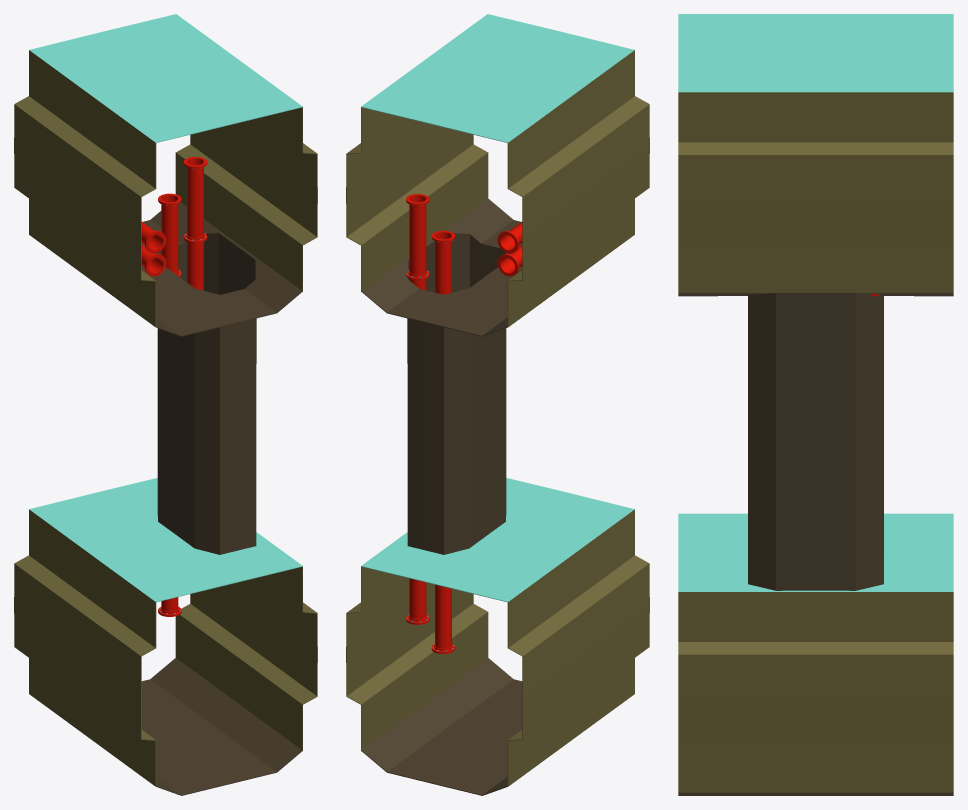
The model's file is Straight_.001.fbx.
3 renders of one model, left to right at view 1: azimuth 30°, elevation 25°; view 2: azimuth 150°, elevation 25°; view 3: azimuth 270°, elevation 25°, orthographic. The views are drawn at different scales.
Parts seen in each view (by area): view 1: Straight_.001, Pipe_200_Straight_2m.019, Pipe_200_Straight_2m.004, Pipe_200_Straight_1m.010; view 2: Straight_.001, Pipe_200_Straight_2m.019, Pipe_200_Straight_2m.020, Pipe_200_Straight_2m.004, Pipe_200_Straight_2m.021, Pipe_200_Straight_1m.010; view 3: Straight_.001.
Boxes of the visible parts, x1=… form: Straight_.001: x1=14, y1=14, x2=317, y2=795; Pipe_200_Straight_2m.019: x1=183, y1=156, x2=207, y2=290; Pipe_200_Straight_2m.004: x1=158, y1=193, x2=181, y2=277; Pipe_200_Straight_1m.010: x1=141, y1=222, x2=166, y2=253; Straight_.001: x1=346, y1=14, x2=649, y2=795; Pipe_200_Straight_2m.019: x1=406, y1=194, x2=429, y2=290; Pipe_200_Straight_2m.020: x1=431, y1=584, x2=455, y2=653; Pipe_200_Straight_2m.004: x1=431, y1=230, x2=455, y2=294; Pipe_200_Straight_2m.021: x1=406, y1=578, x2=429, y2=624; Pipe_200_Straight_1m.010: x1=497, y1=222, x2=522, y2=253; Straight_.001: x1=678, y1=14, x2=953, y2=795.
Size of the model in its own units: 2.42 by 8.62 by 3.
